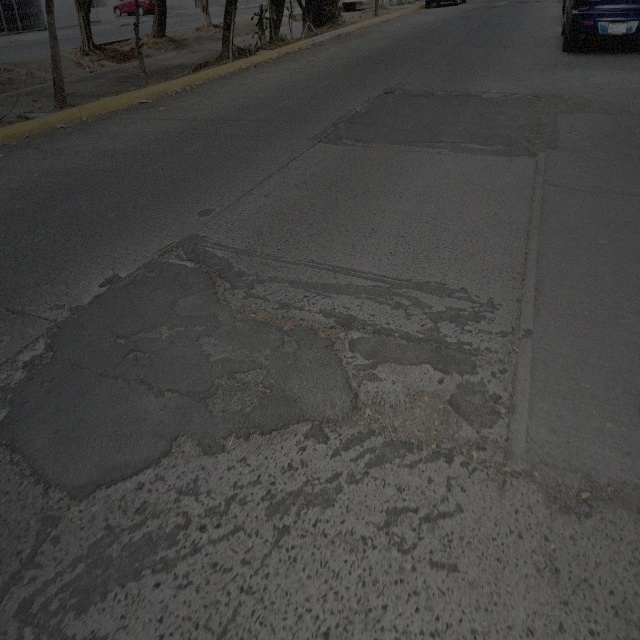pothole: (350, 387, 462, 438), (522, 477, 630, 524), (225, 412, 312, 456), (208, 361, 267, 419), (2, 328, 52, 394), (160, 432, 209, 467), (120, 320, 178, 349), (311, 322, 345, 367), (562, 88, 606, 120), (250, 308, 306, 328), (157, 238, 196, 266), (207, 263, 227, 300), (278, 332, 299, 357), (123, 345, 152, 361), (162, 385, 180, 397)
